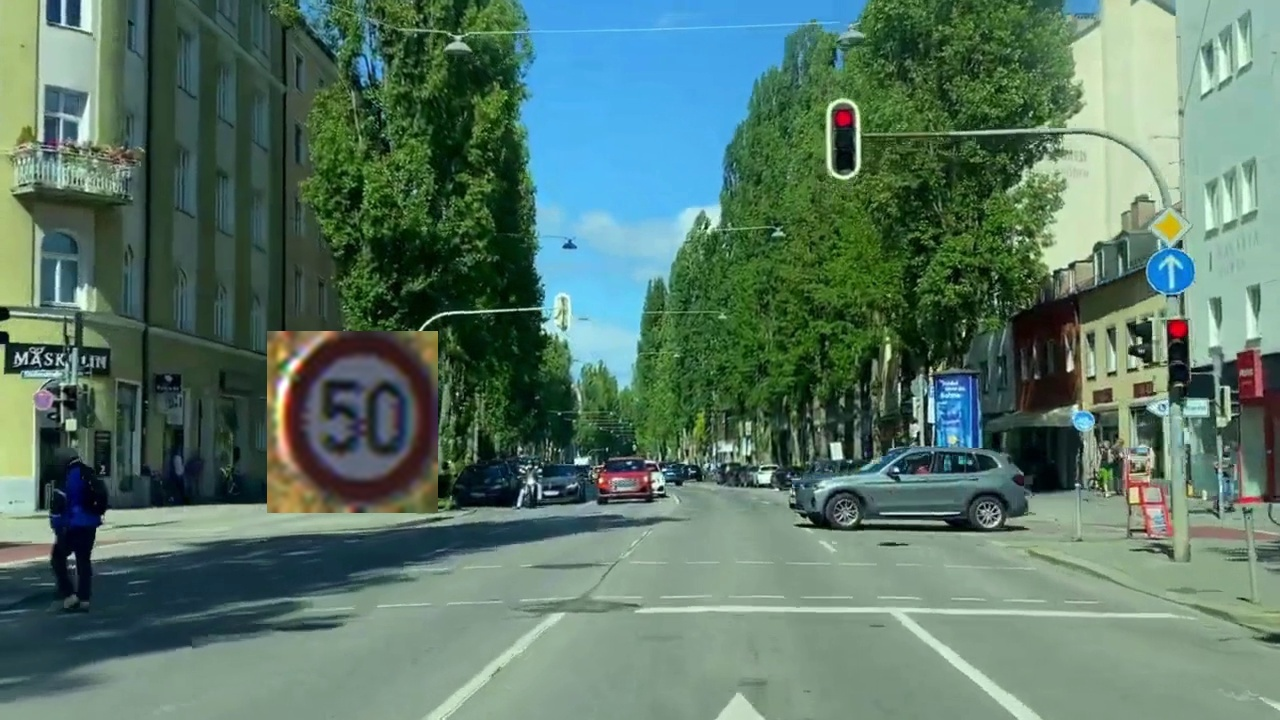Speed 50: (267, 331, 438, 513)
